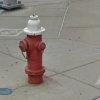Hydrant: (15, 6, 58, 87)
